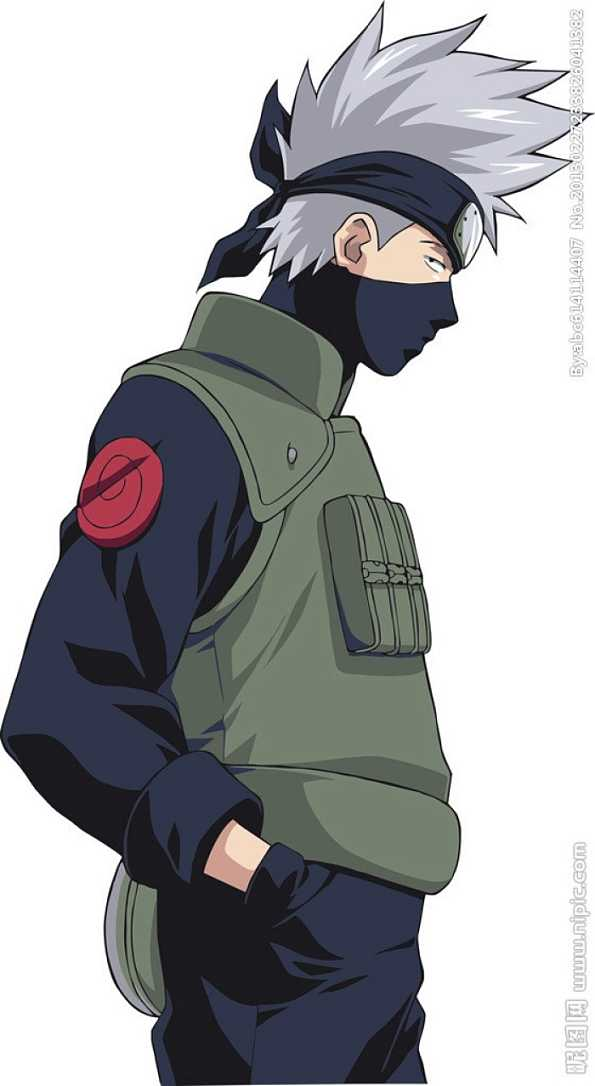kakashi: (260, 146, 489, 383)
